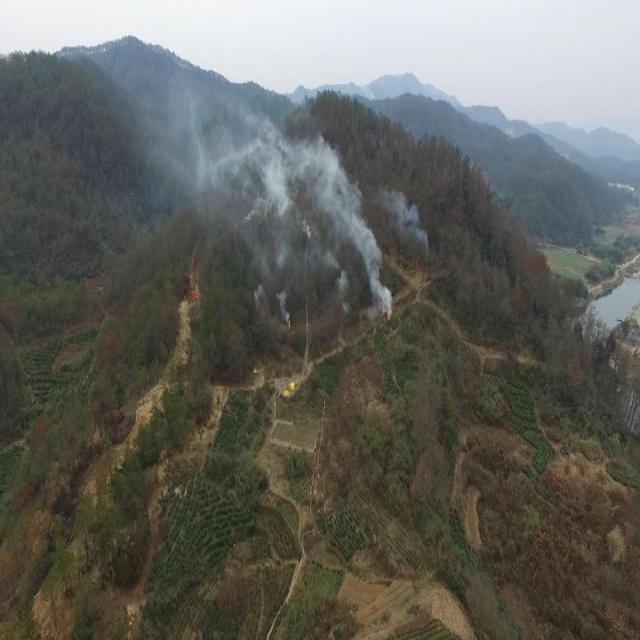Smoke: (138, 62, 430, 324)
